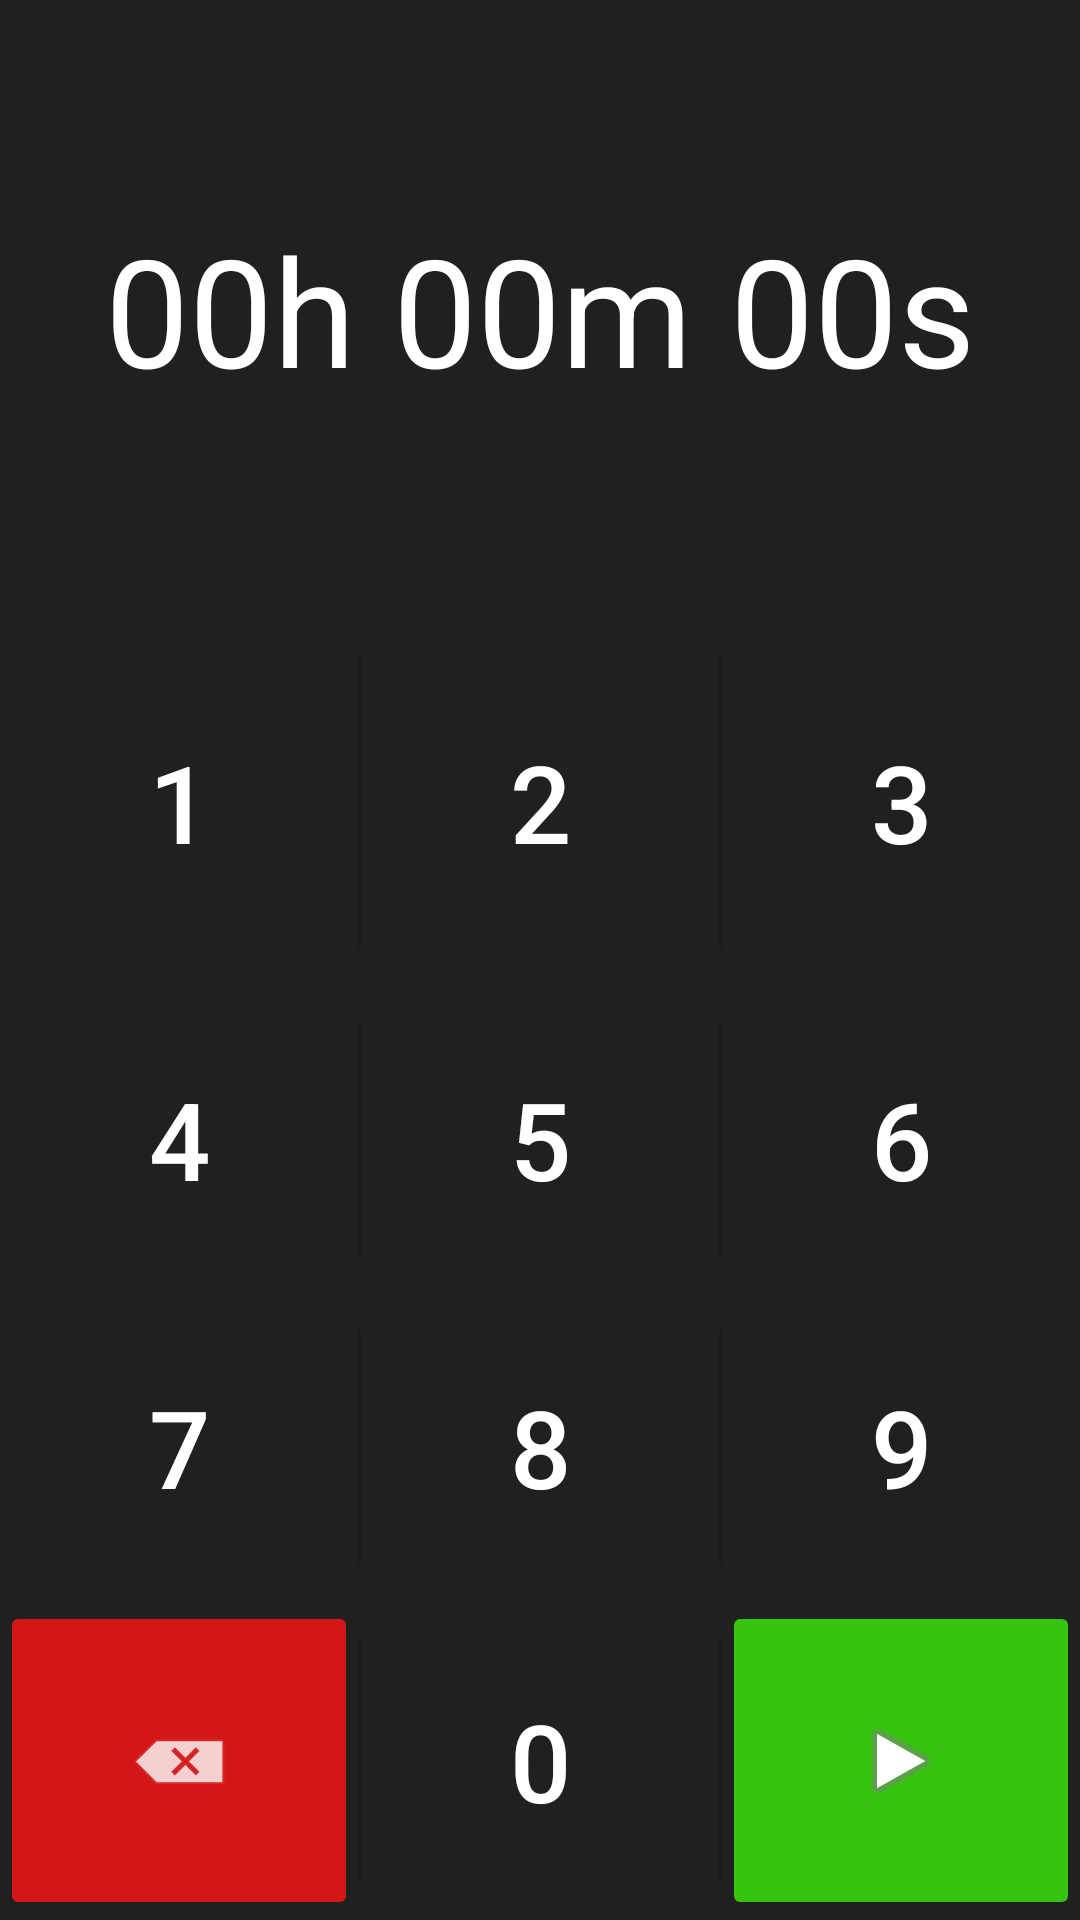

Where icons sit on this 1080 x 1920 app screen, as (x1, y1, x2, y2):
Backspace: (12, 1619, 346, 1902)
Start Timer: (734, 1619, 1068, 1902)
